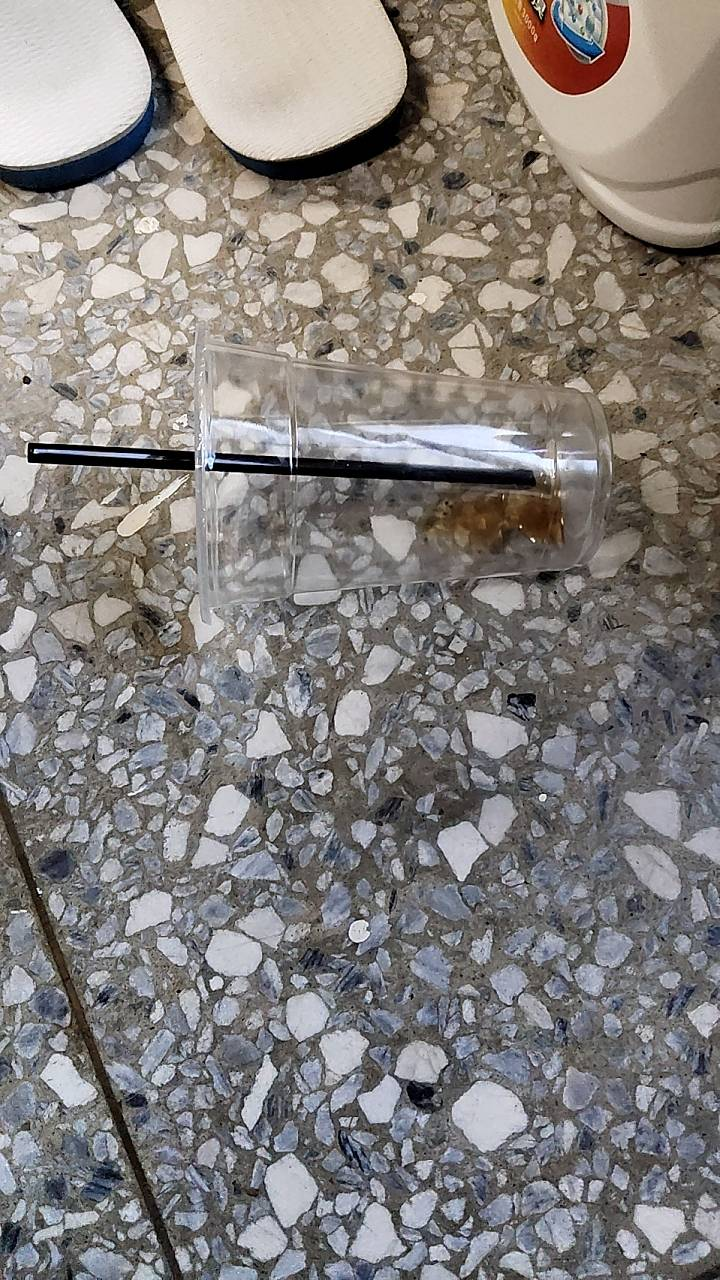plastic: (0, 318, 702, 662)
